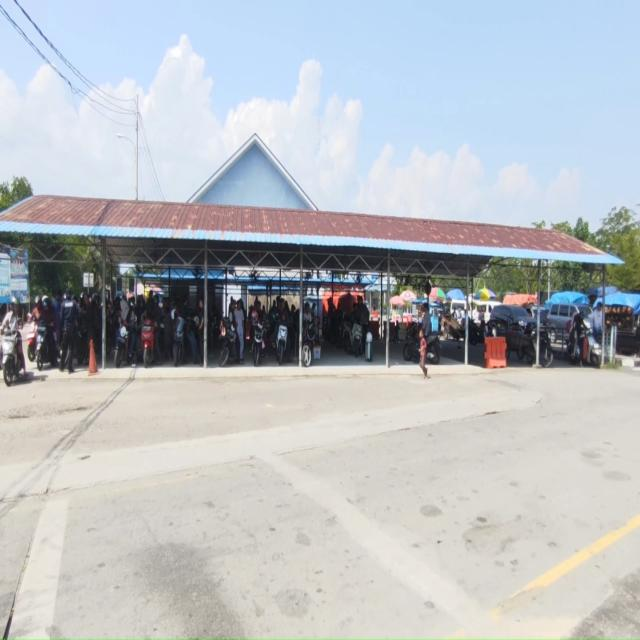Golongan II: (516, 325, 554, 368), (568, 322, 602, 367), (403, 332, 440, 364), (2, 331, 20, 386), (220, 318, 238, 367), (35, 326, 52, 372), (302, 319, 317, 367), (114, 322, 129, 368), (173, 316, 186, 367), (141, 322, 155, 368), (346, 322, 364, 357), (75, 322, 88, 365), (252, 320, 264, 366), (337, 316, 352, 352), (276, 324, 288, 365), (468, 320, 485, 346), (27, 319, 37, 363)
